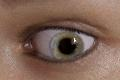eye: (51, 33, 84, 59)
